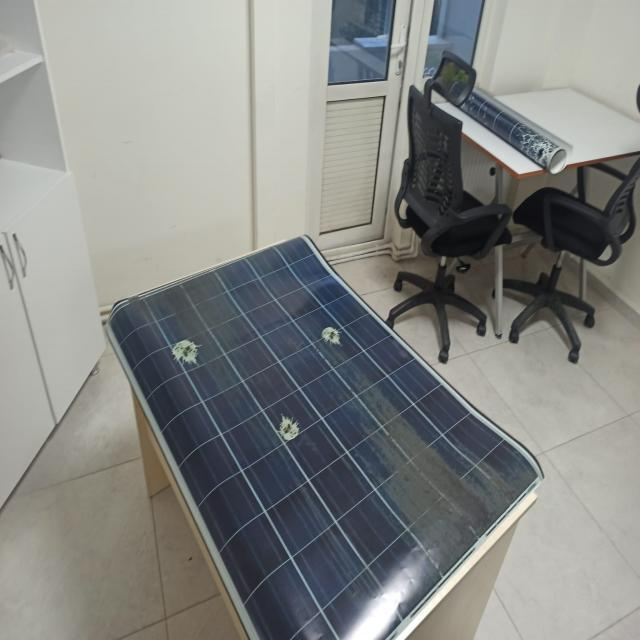faulty: (106, 236, 542, 640)
